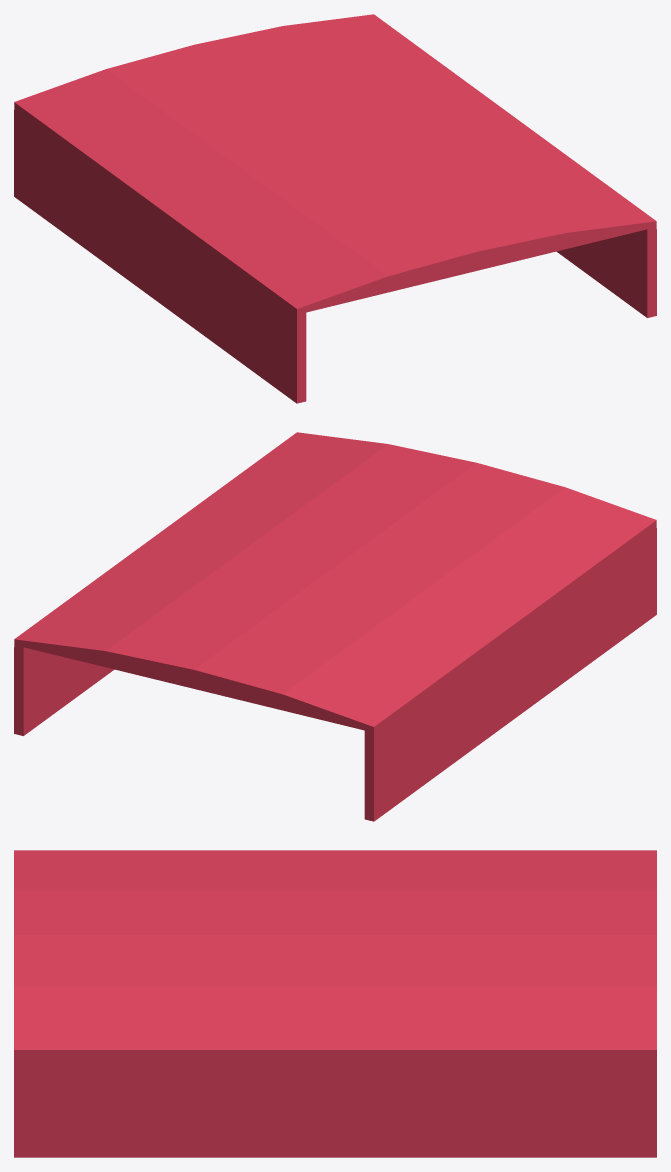
The model's file is Itr_Bed_Single_Blanket_06.FBX.
3 renders of one model, top to bottom at view 1: azimuth 30°, elevation 25°; view 2: azimuth 150°, elevation 25°; view 3: azimuth 270°, elevation 25°, orthographic. The views are drawn at different scales.
Parts seen in each view (by area): view 1: Itr_Bed_Single_Blanket_06; view 2: Itr_Bed_Single_Blanket_06; view 3: Itr_Bed_Single_Blanket_06.
Boxes of the visible parts, x1,y1,x2,y2 form: Itr_Bed_Single_Blanket_06: (14,14,656,403); Itr_Bed_Single_Blanket_06: (14,432,656,821); Itr_Bed_Single_Blanket_06: (14,850,656,1157).
Size of the model in its own units: 47.68 by 13.65 by 64.86.
